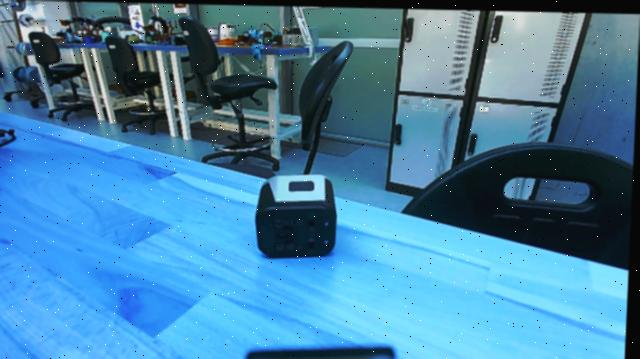adapter: (252, 168, 349, 263)
